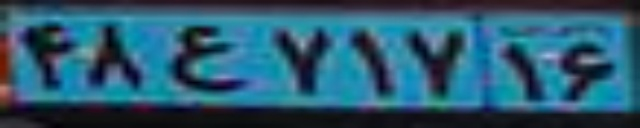1: (348, 28, 396, 96), (499, 42, 542, 101)
4: (22, 22, 77, 89)
6: (553, 42, 616, 100)
7: (274, 26, 336, 93), (406, 27, 465, 95)
8: (85, 24, 145, 89)
ain: (170, 24, 245, 92)
